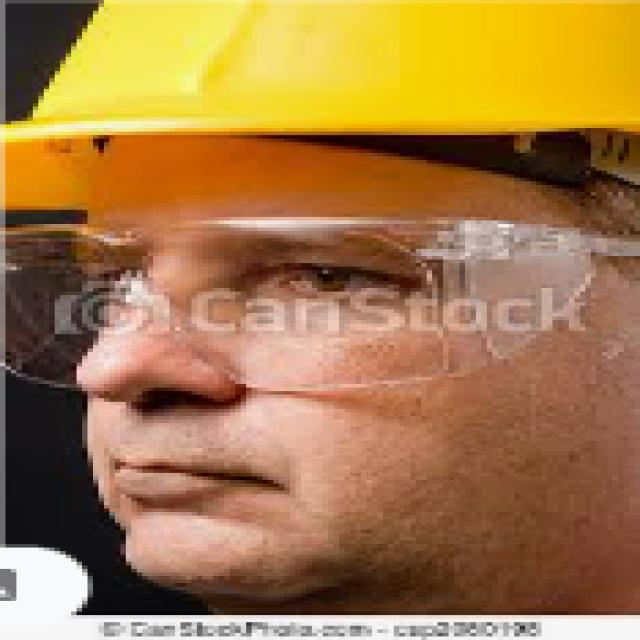glasses: (33, 209, 593, 381)
